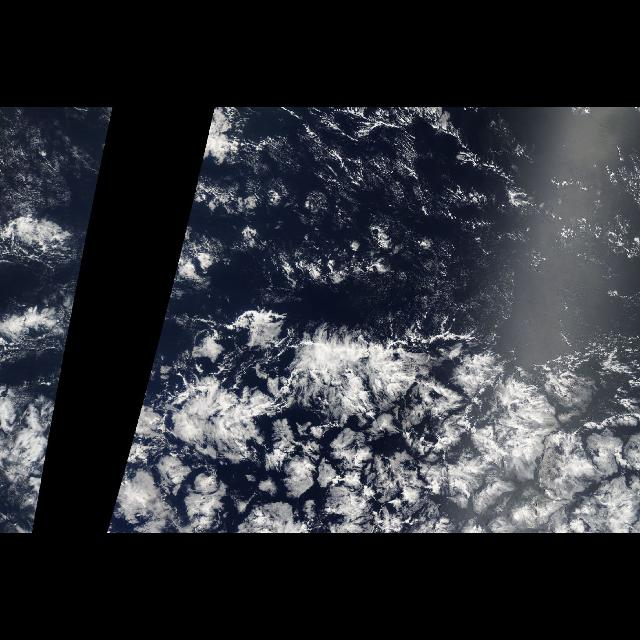Flower: (109, 305, 639, 533)
